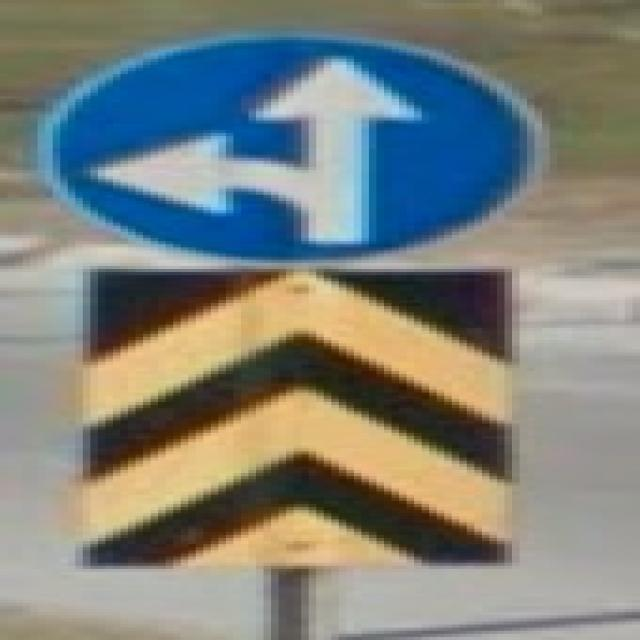Straight or Left: (39, 35, 536, 264)
